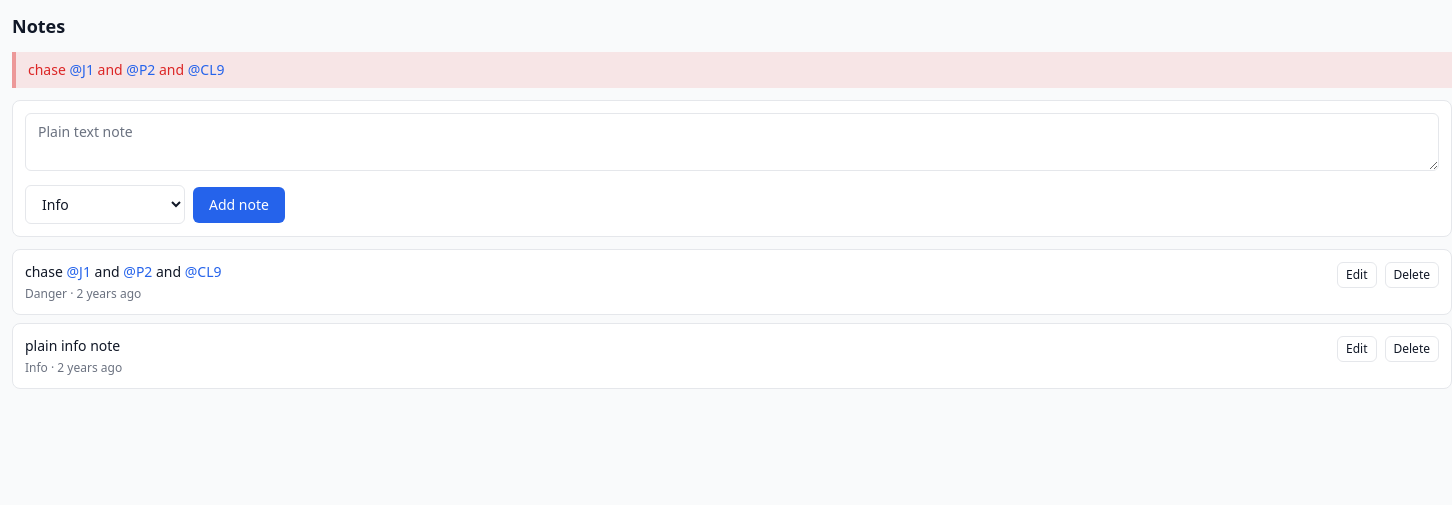
NotesSection › rejects a blank body while editing
The image size is (1452, 505).
Step 1. Click the button "Edit" in the row of "plain info note" → (1357, 349), box [1337,336,1376,362]
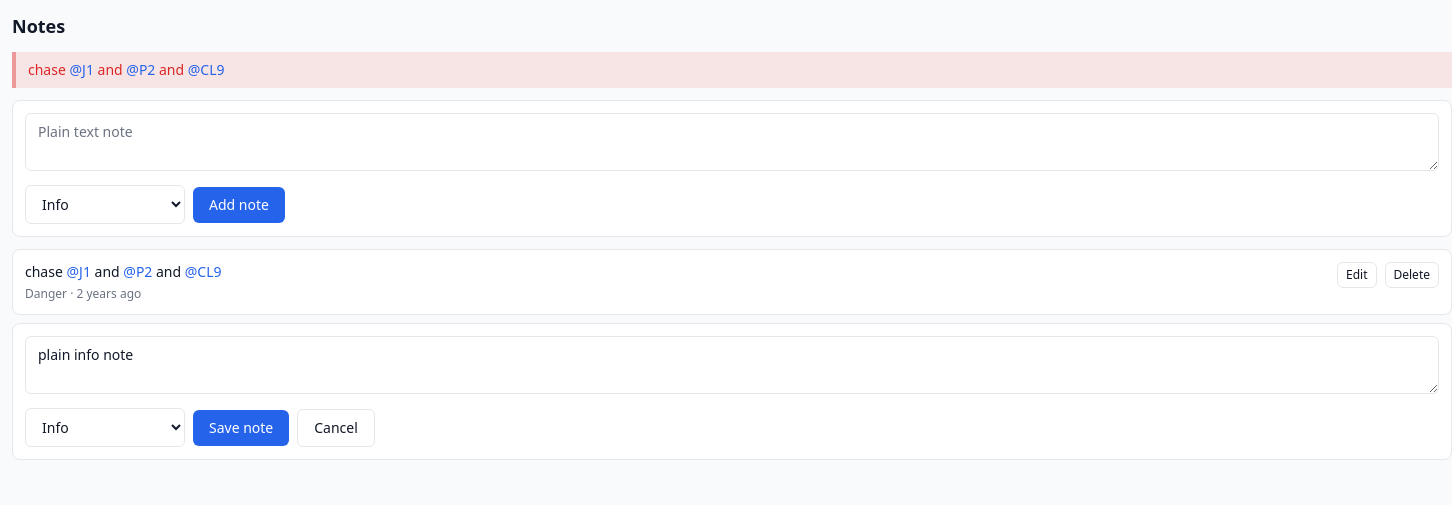
Step 2. Clear the text box named "Plain text note CN1" → (732, 365), box [25,336,1439,394]
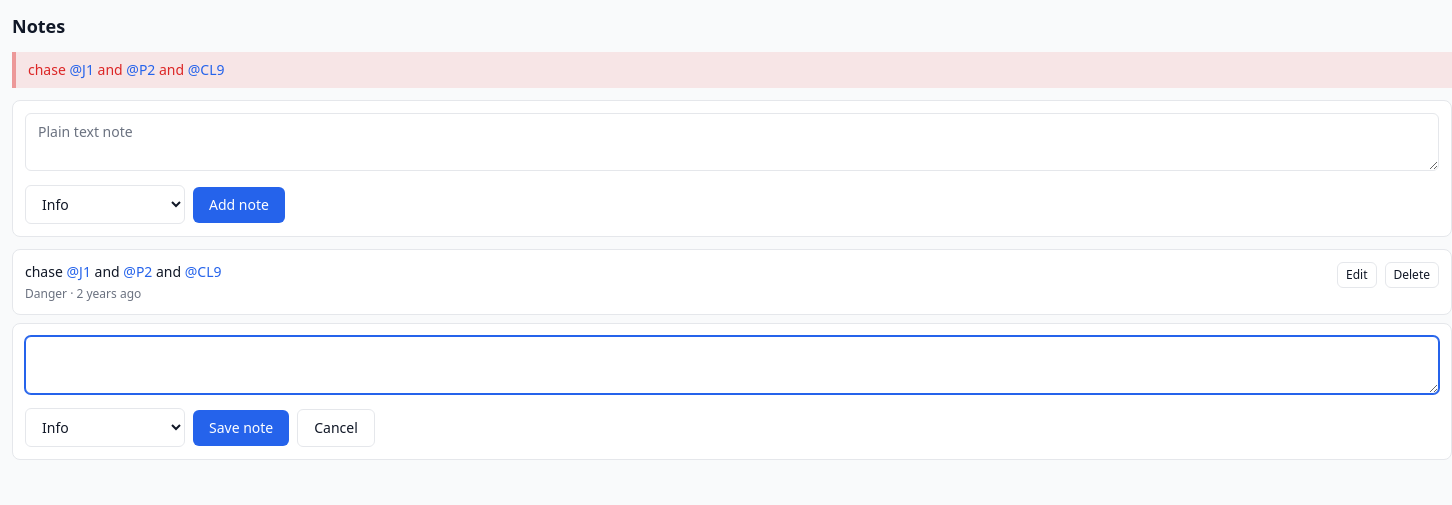
Step 3. Click the button "Save note" → (241, 428), box [193,410,289,446]
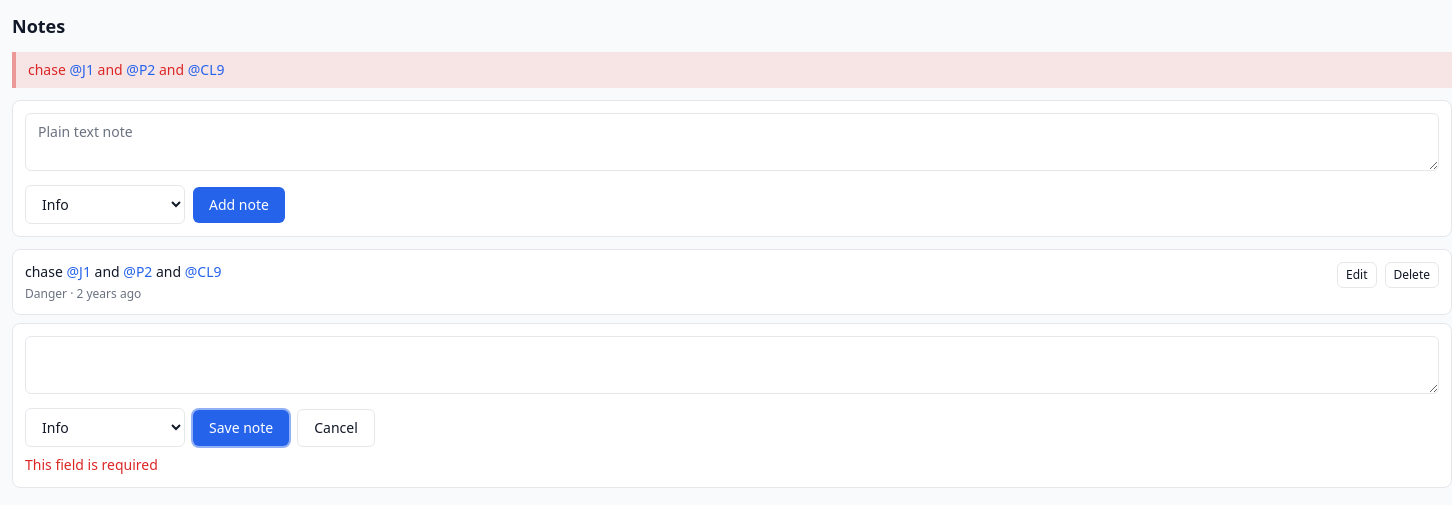
Expected: the text "This field is required" is shown, [25,455,158,474]
